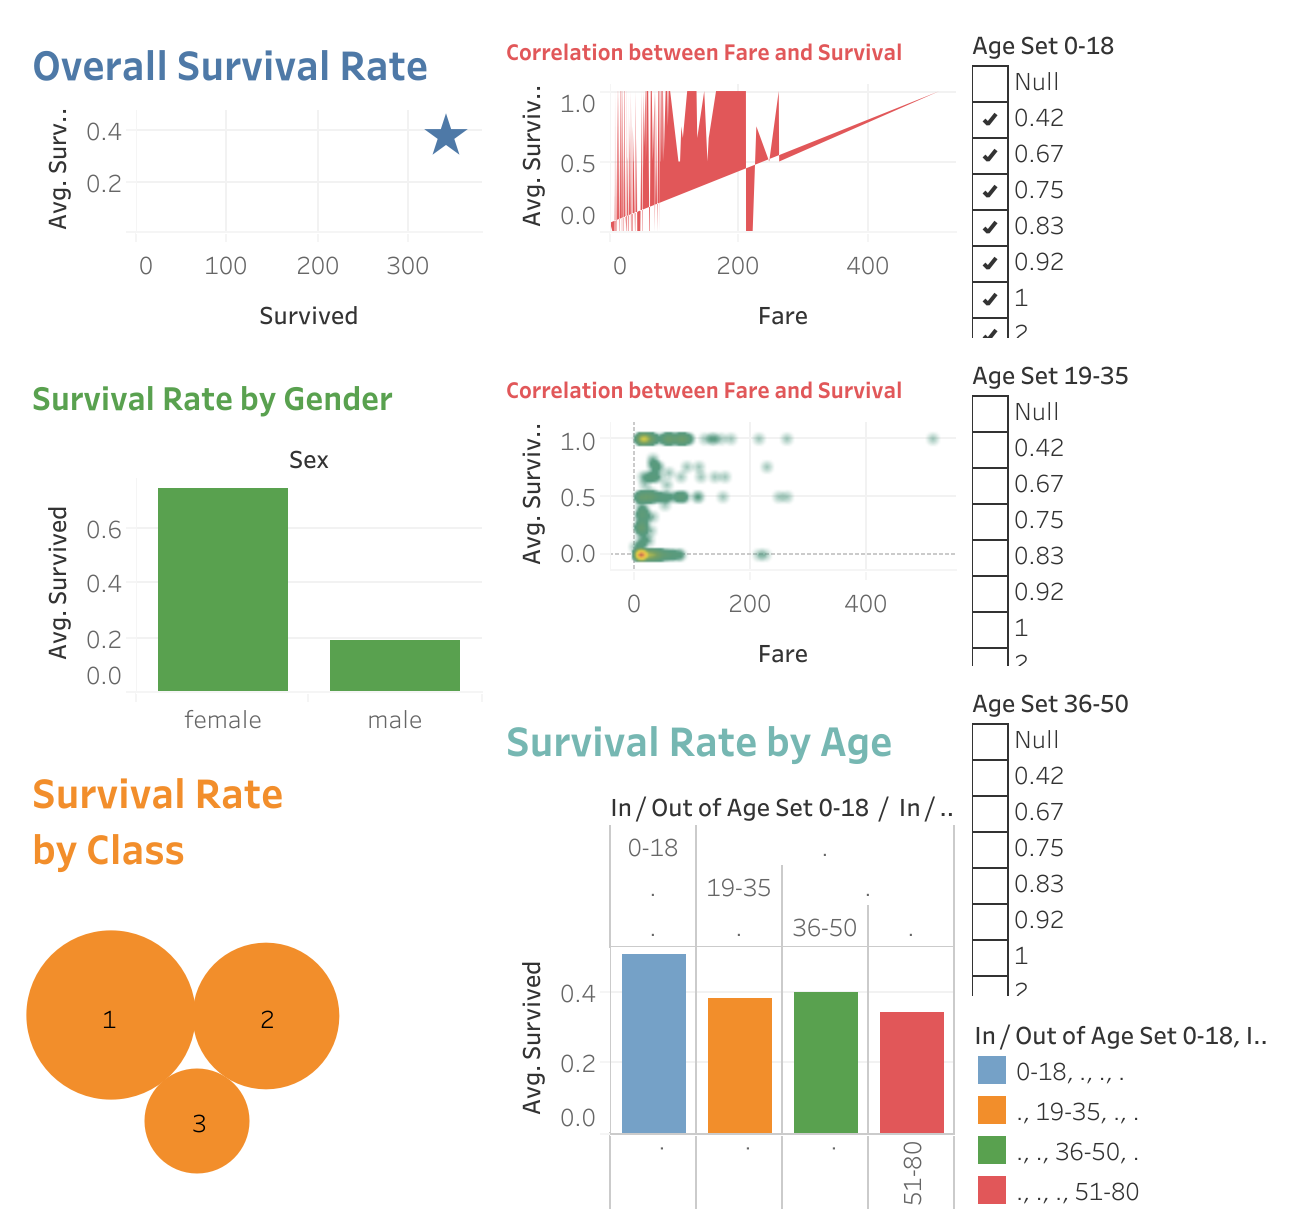

This screenshot's page, from the dashboard's own definition file:
{"tool":"tableau","page":{"name":"Titanic Dashboard","canvas":[650,860],"ordinal":0},"visuals":[{"type":"worksheet","title":"Overall Survival","mark":"Automatic","rows":["Survived"],"cols":["Survived"],"box":[8,9.9,237,236.3]},{"type":"worksheet","title":"Fare","mark":"Polygon","rows":["Survived"],"cols":["Fare"],"box":[245,9.9,237,236.3]},{"type":"blank","box":[482,9.9,160,236.3]},{"type":"setMembership","title":"Age","param":"[federated.0721gpo1qdemh9118zobo0yjyk3y].[Age Set 0-18]","box":[482,9.9,160,236.3]},{"type":"worksheet","title":"Gender","mark":"Automatic","rows":["Survived"],"cols":["Sex"],"box":[8,246.2,237,272.2]},{"type":"worksheet","title":"Fare (2)","mark":"Heatmap","rows":["Survived"],"cols":["Fare"],"box":[245,246.2,237,236.3]},{"type":"blank","box":[482,246.2,160,236.3]},{"type":"setMembership","title":"Age","param":"[federated.0721gpo1qdemh9118zobo0yjyk3y].[Age Set 19-35]","box":[482,246.2,160,236.3]},{"type":"worksheet","title":"Age","mark":"Automatic","rows":["Survived"],"cols":["Age Set 0-18","Age Set 19-35","Age Set 36-50","Age Set"],"box":[245,482.6,237,367.5]},{"type":"blank","box":[482,482.6,160,236.3]},{"type":"setMembership","title":"Age","param":"[federated.0721gpo1qdemh9118zobo0yjyk3y].[Age Set 36-50]","box":[482,482.6,160,236.3]},{"type":"worksheet","title":"Class","mark":"Circle","box":[8,518.5,237,331.6]},{"type":"legend","title":"Age","param":"[federated.0721gpo1qdemh9118zobo0yjyk3y].[io:Age Set 0-18:nk]\n[federated.0721gpo","box":[482,718.9,160,131.2]}]}

Visuals, with their boxes in screenshot pixels (x1, y1, x2, y2):
"Overall Survival" worksheet: bbox=[339, 55, 674, 388]
"Fare" worksheet (Polygon marks): bbox=[674, 55, 1008, 388]
blank: bbox=[1008, 55, 1234, 388]
"Age" setMembership: bbox=[1008, 55, 1234, 388]
"Gender" worksheet: bbox=[339, 388, 674, 772]
"Fare (2)" worksheet (Heatmap marks): bbox=[674, 388, 1008, 721]
blank: bbox=[1008, 388, 1234, 721]
"Age" setMembership: bbox=[1008, 388, 1234, 721]
"Age" worksheet: bbox=[674, 721, 1008, 1231]
blank: bbox=[1008, 721, 1234, 1055]
"Age" setMembership: bbox=[1008, 721, 1234, 1055]
"Class" worksheet (Circle marks): bbox=[339, 772, 674, 1231]
"Age" legend: bbox=[1008, 1055, 1234, 1231]
